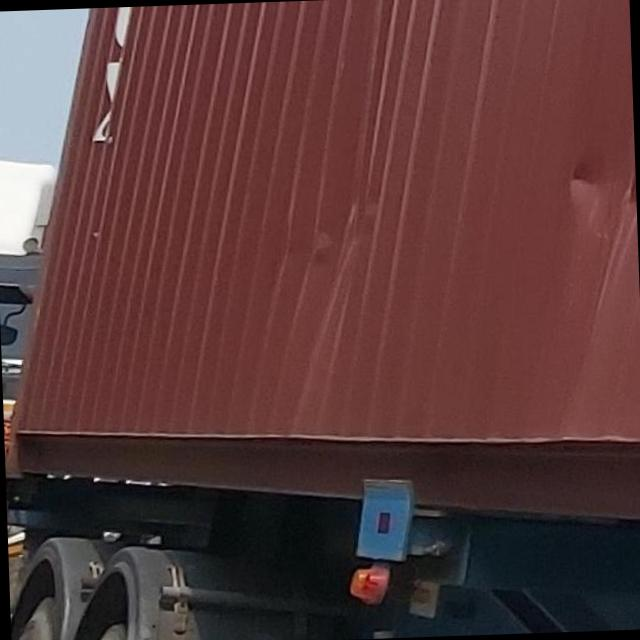Major Dent: (258, 73, 400, 347)
